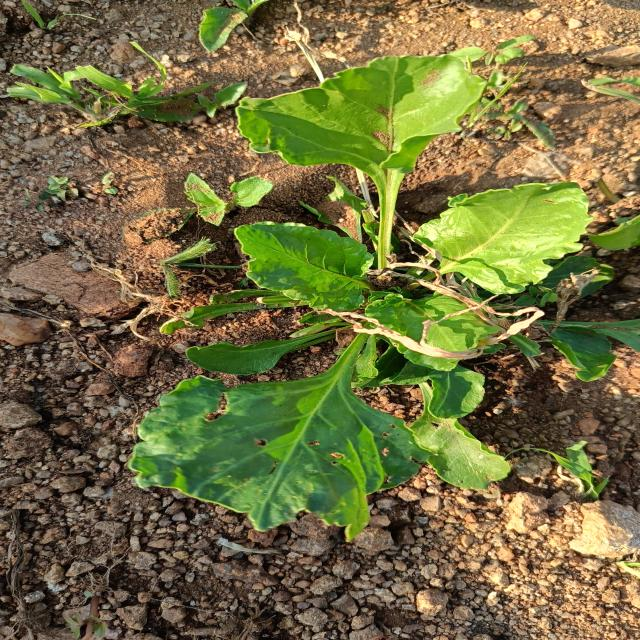leaves: (198, 43, 513, 280), (104, 323, 438, 539), (397, 169, 606, 311), (192, 200, 381, 323), (386, 409, 554, 514), (357, 285, 517, 372), (363, 337, 526, 422), (533, 312, 640, 400)
